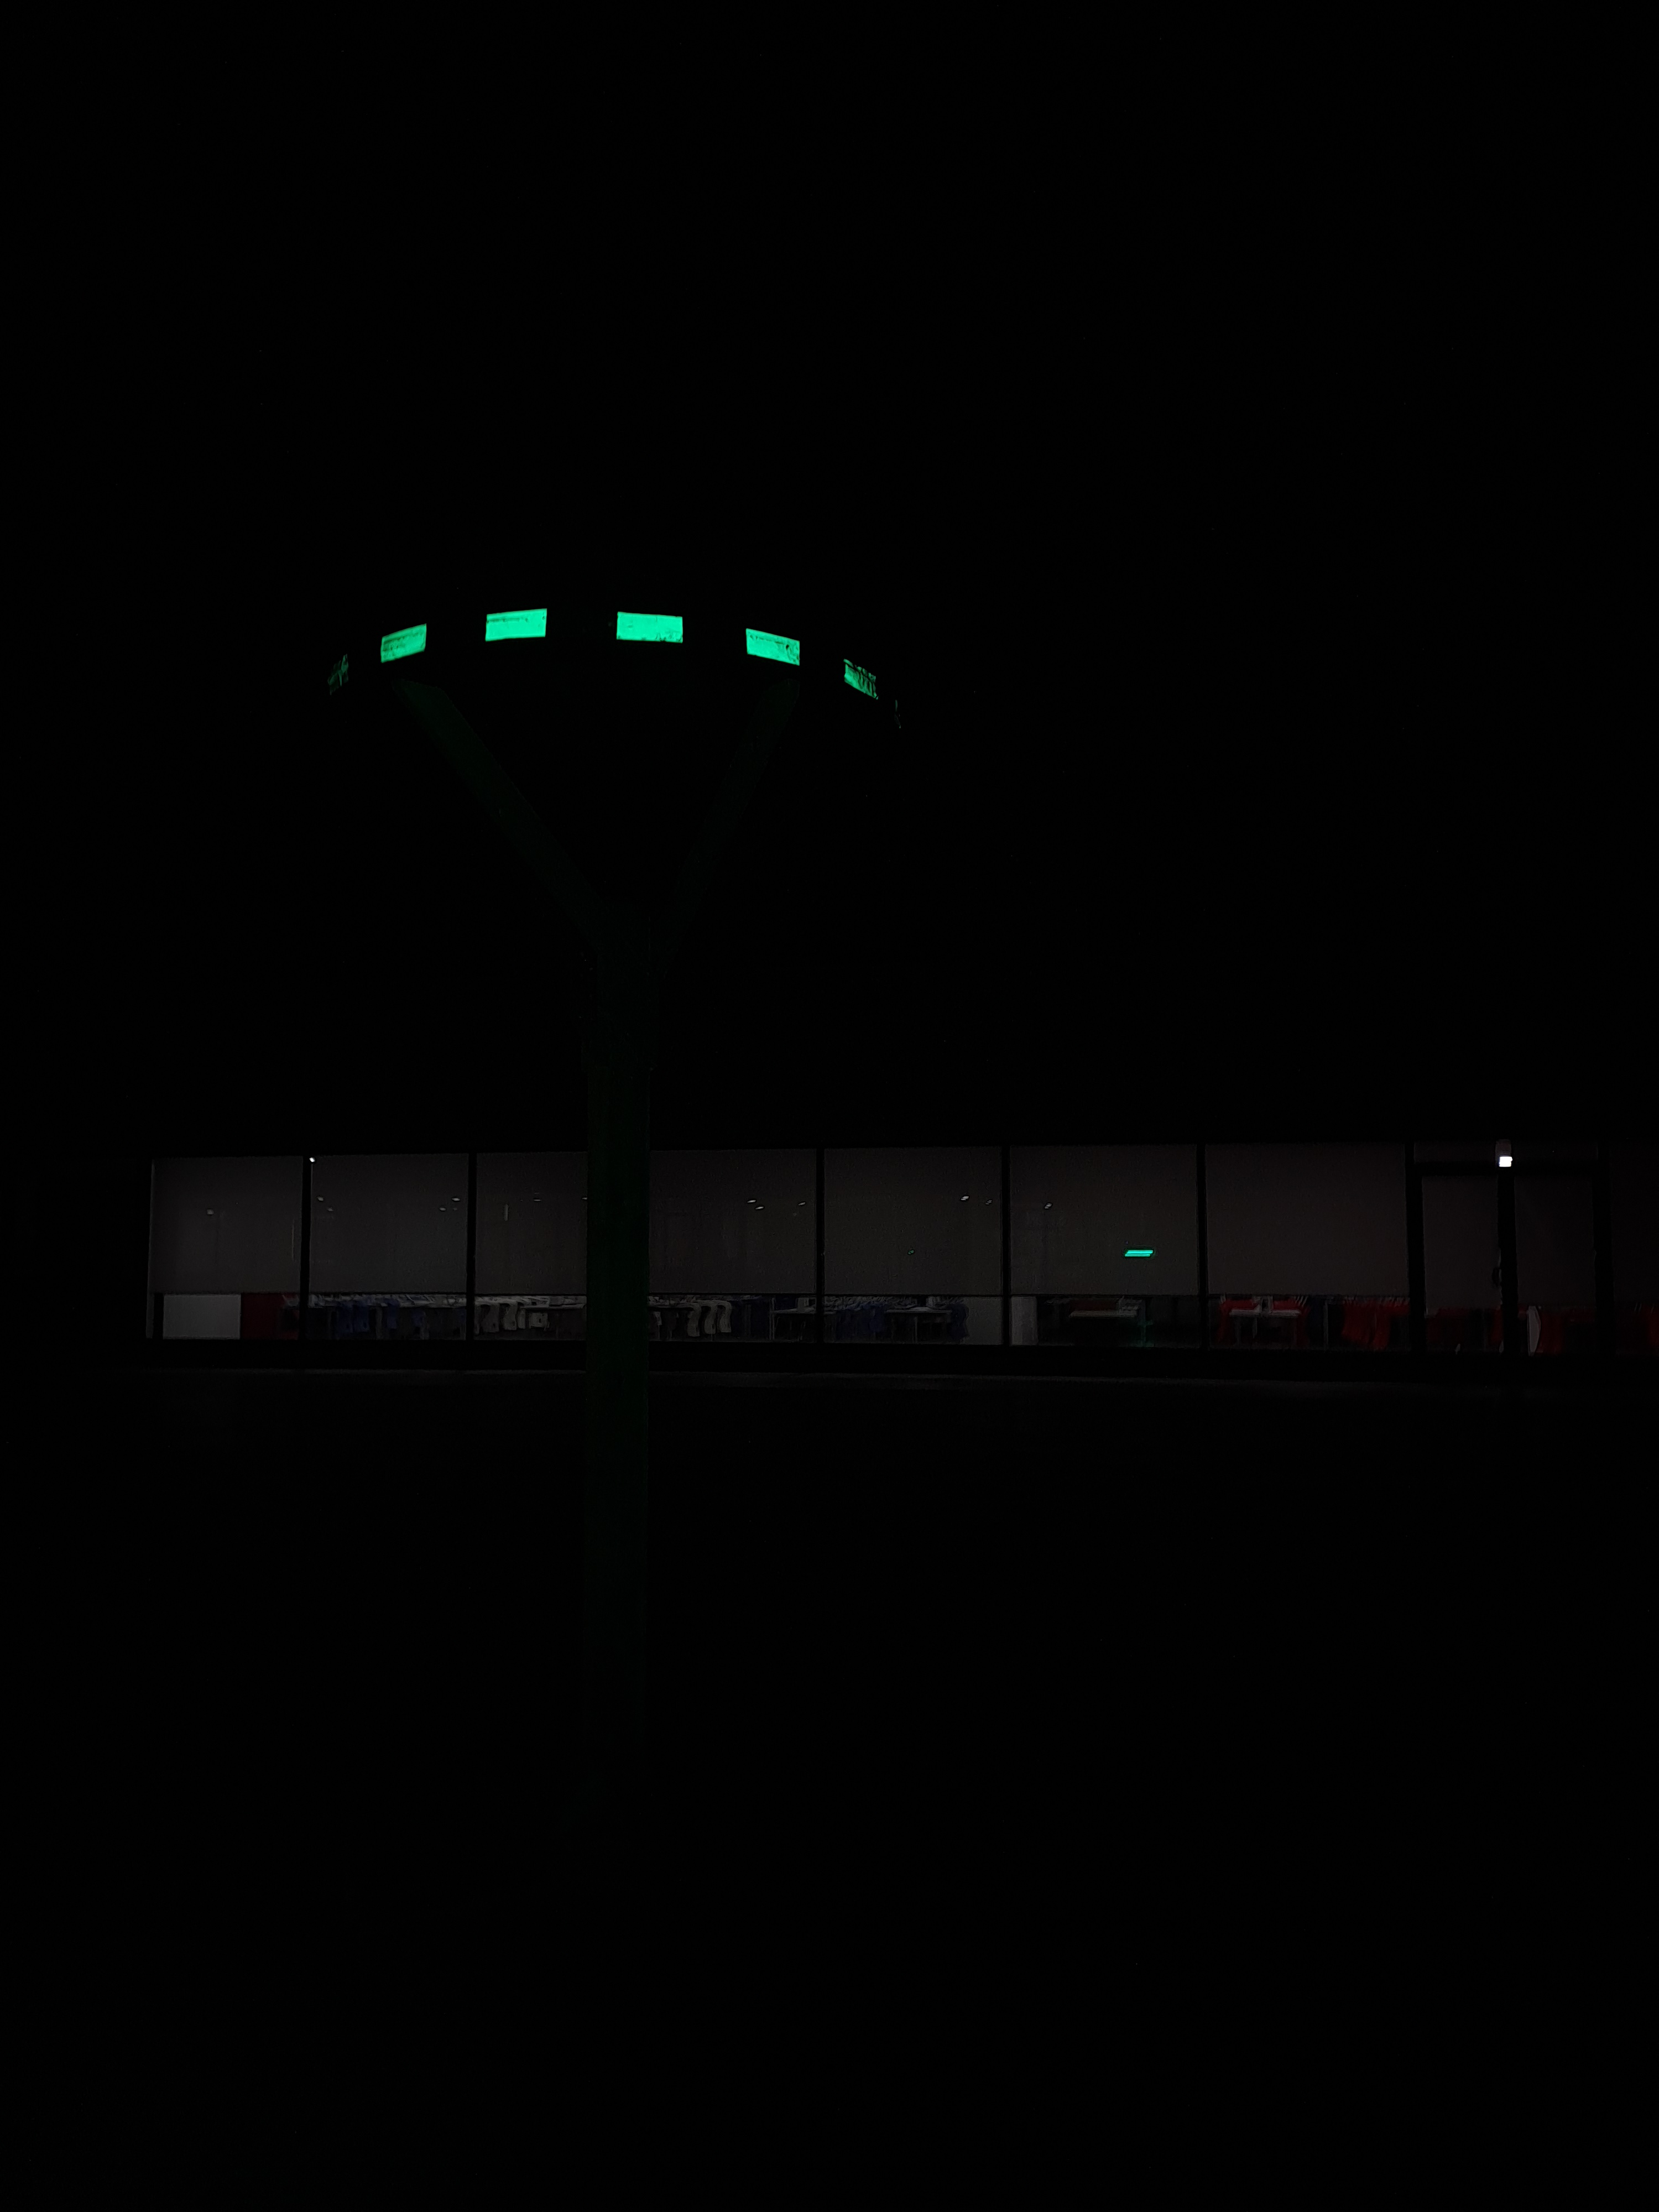hoop: (369, 603, 884, 709)
